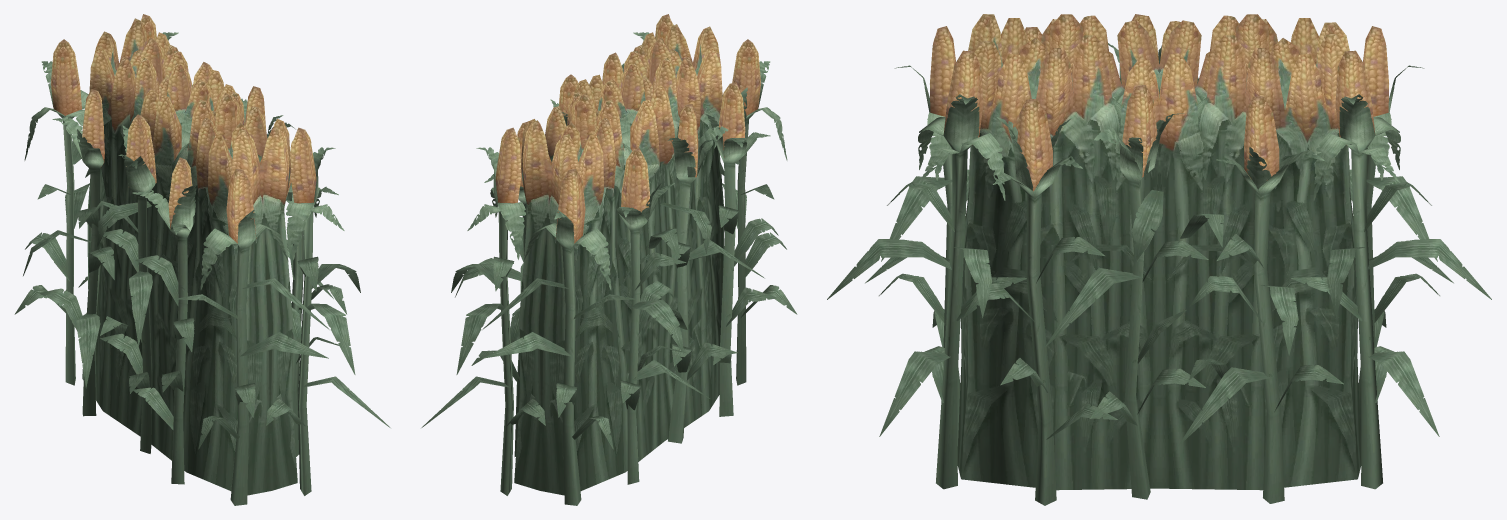
3 renders of one model, left to right at view 1: azimuth 30°, elevation 25°; view 2: azimuth 150°, elevation 25°; view 3: azimuth 270°, elevation 25°, orthographic. The views are drawn at different scales.
Size of the model in its own units: 1.39 by 2.14 by 2.84.
1 material, 1 textured.
